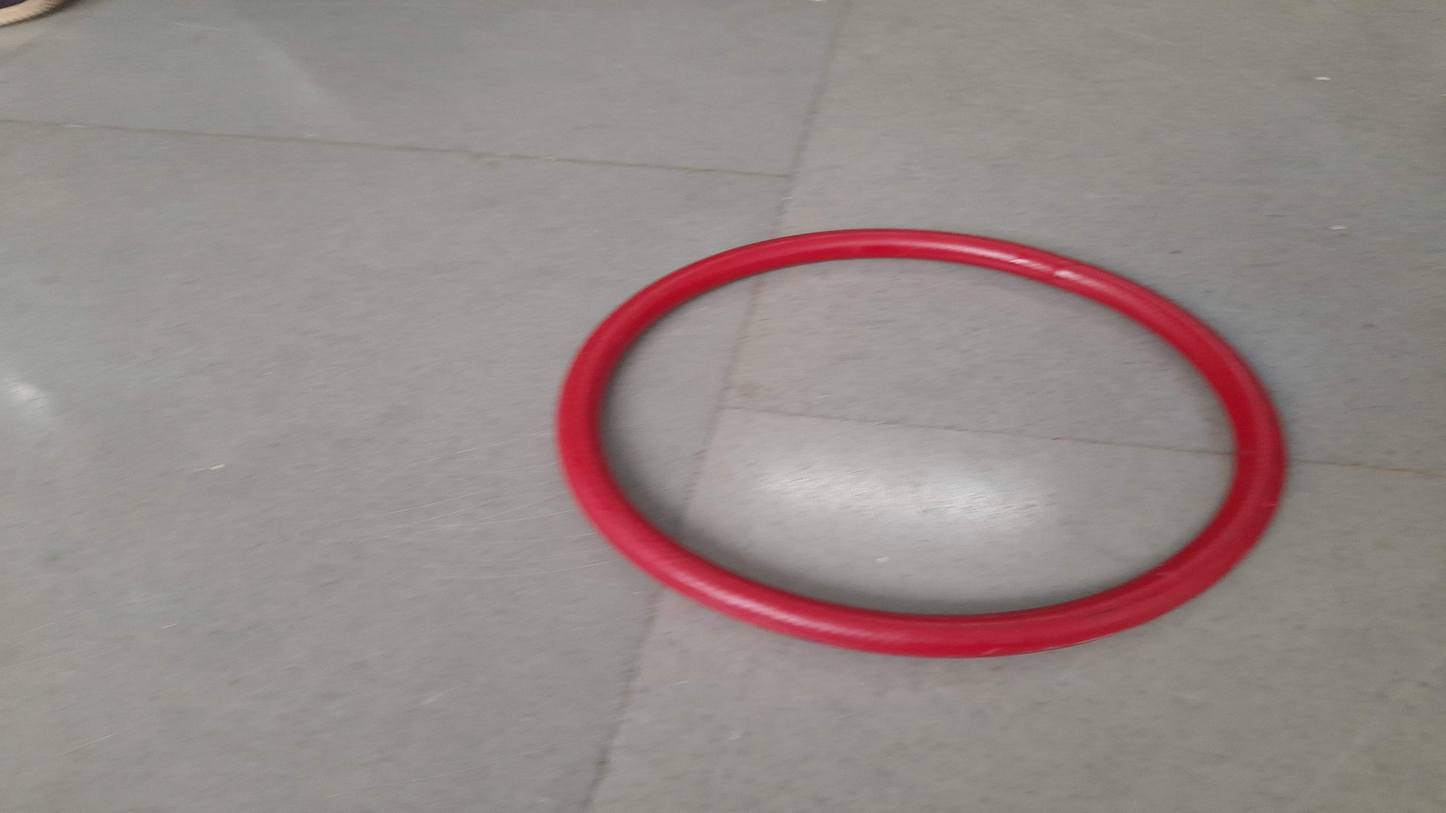Red ring: (560, 230, 1283, 660)
